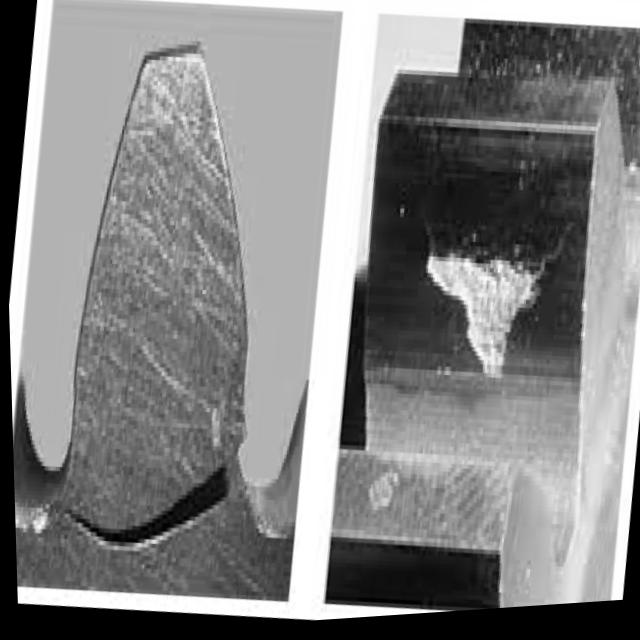Fault-Exist: (2, 1, 326, 593), (328, 64, 610, 568)
